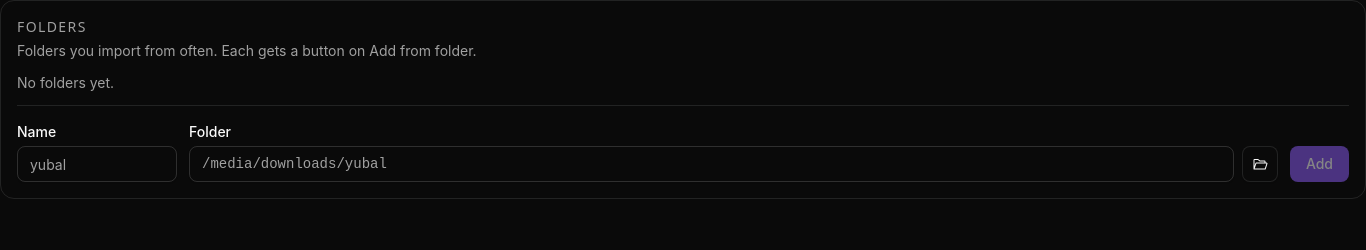
it: FolderSourcesPanel: adding › sends the trimmed name and folder, lists the new row, and clears the row
Expected: the text "No folders yet." is shown, [17,74,114,91]
Expected: the button "Add" is disabled, [1290,146,1349,182]
Type "  yubal " into the field labelled "Name". click: {"x": 97, "y": 164}
box: [17,146,177,182]
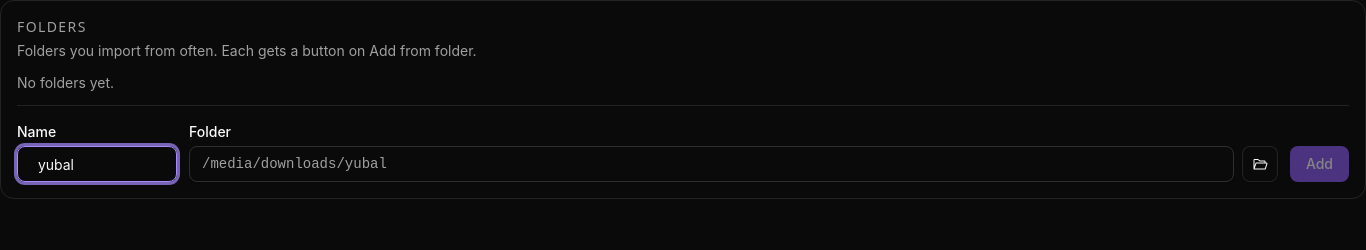
Type " /media/downloads/yubal  " into the field labelled "Folder". click: {"x": 711, "y": 164}
box: [189,146,1234,182]
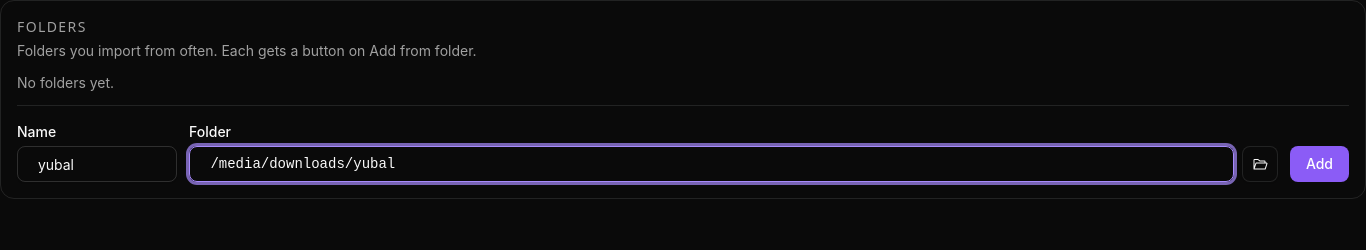
Click the button "Add". click: {"x": 1319, "y": 164}
box: [1290,146,1349,182]
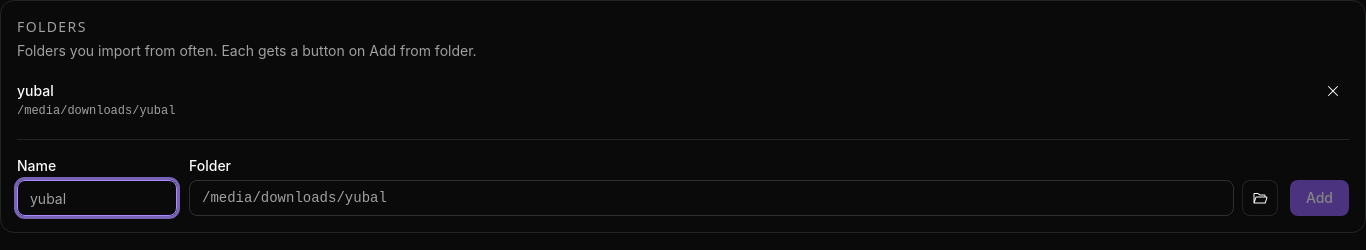
Result: the list item shows "yubal" at [17,82,54,99]
Result: the field labelled "Name" is empty at [17,180,177,216]
Result: the field labelled "Folder" is empty at [189,180,1234,216]
